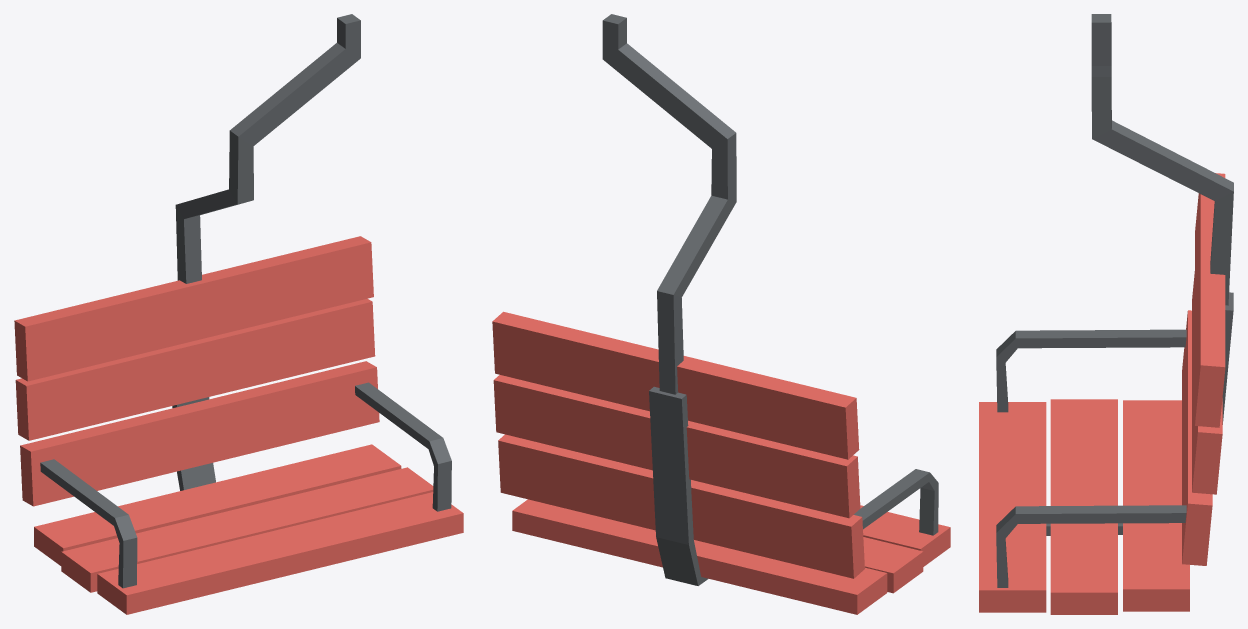
Rendered from LightGreyMetalMechSmallSkiLiftChair1.fbx.
3 views of the same model, side by side, from view 1: azimuth 30°, elevation 25°; view 2: azimuth 150°, elevation 25°; view 3: azimuth 270°, elevation 25° (orthographic). The views are drawn at different scales.
Parts seen in each view (by area): view 1: LightGreyMetalMechSmallSkiLiftChair1; view 2: LightGreyMetalMechSmallSkiLiftChair1; view 3: LightGreyMetalMechSmallSkiLiftChair1.
Boxes of the visible parts, x1,y1,x2,y2 form: LightGreyMetalMechSmallSkiLiftChair1: (14,14,463,614); LightGreyMetalMechSmallSkiLiftChair1: (492,14,950,614); LightGreyMetalMechSmallSkiLiftChair1: (979,14,1233,614).
Size of the model in its own units: 248 by 340 by 138.
